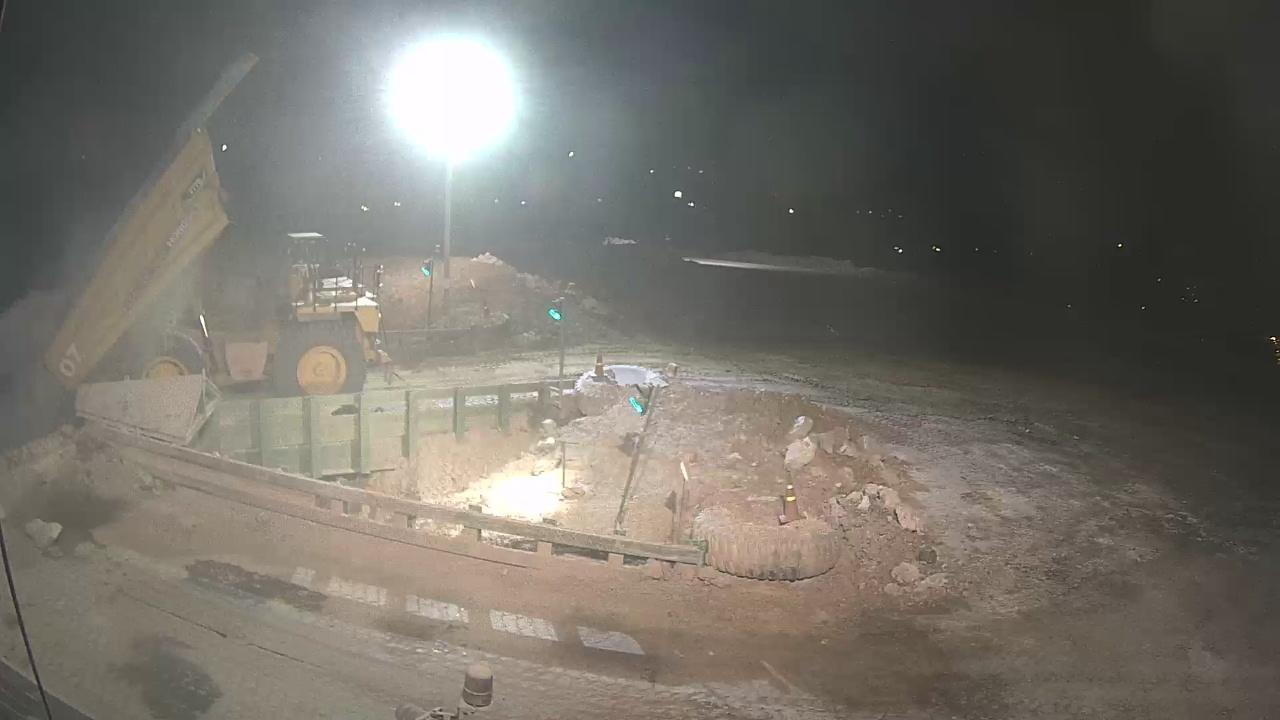dumping_soil: (36, 43, 407, 418)
tail_number: (58, 339, 84, 383)
